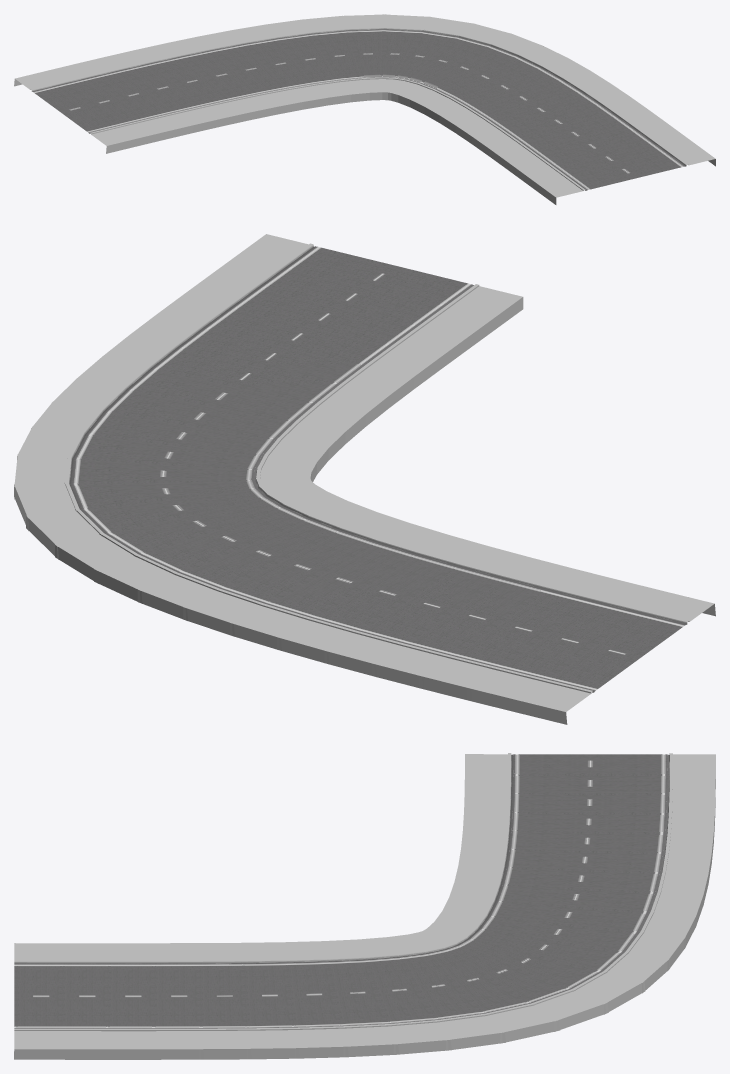
The model's file is RightTurn.obj.
The picture shows the model from 3 angles, top to bottom: view 1: azimuth 30°, elevation 25°; view 2: azimuth 150°, elevation 25°; view 3: azimuth 270°, elevation 25°; orthographic projection. The views are drawn at different scales.
Visible parts, largest first — view 1: RoadStraight_Plane; view 2: RoadStraight_Plane; view 3: RoadStraight_Plane.
Boxes of the visible parts, x1,y1,x2,y2 form: RoadStraight_Plane: (14,14,715,204); RoadStraight_Plane: (14,234,715,724); RoadStraight_Plane: (14,753,715,1059).
Bounding box in the file's own units: 57.36 × 1.05 × 57.57.
3 materials, 1 textured.
